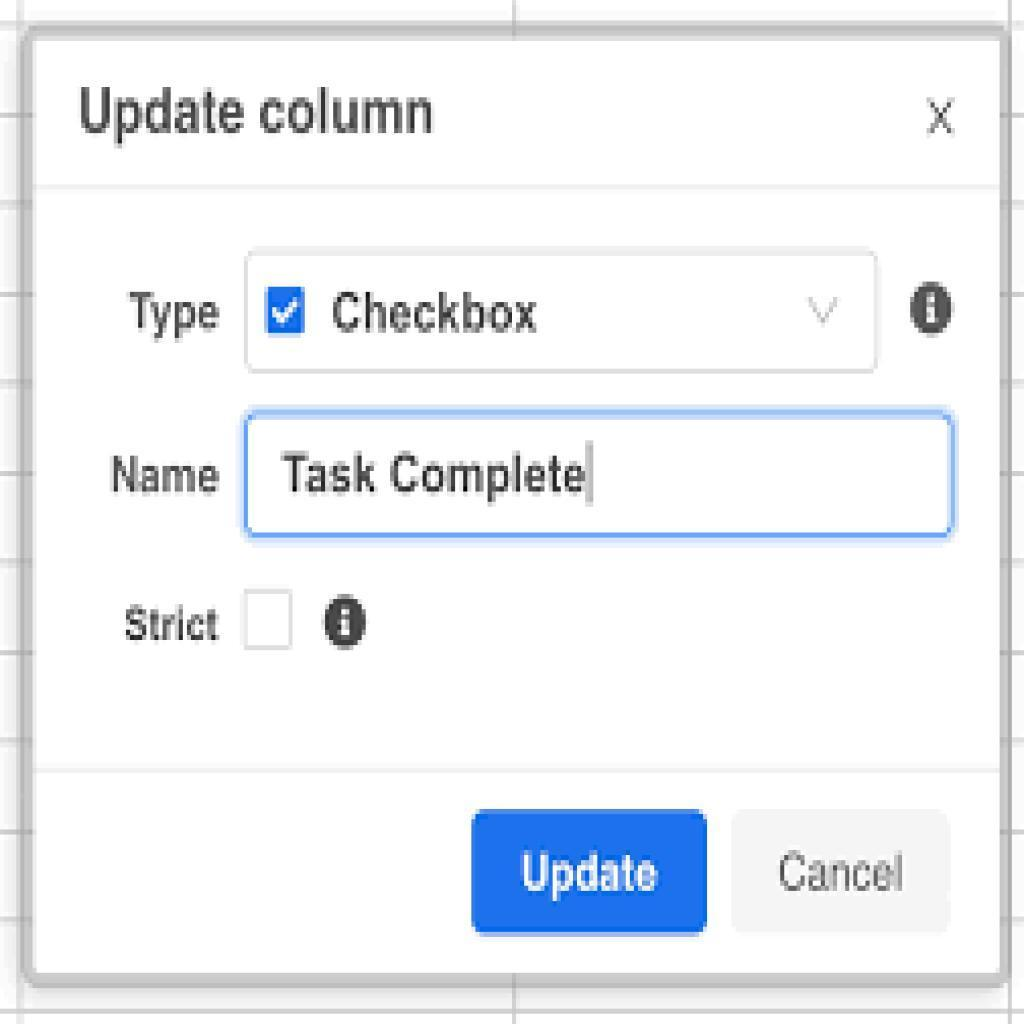button: (473, 812, 708, 936), (731, 816, 952, 934)
checkbox: (261, 277, 313, 344), (243, 589, 295, 652)
dropdown: (251, 253, 876, 374)
icon: (326, 593, 369, 656)
input: (246, 412, 950, 538)
label: (106, 445, 234, 503), (124, 273, 224, 345), (126, 595, 224, 661)
